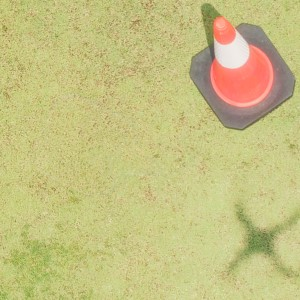traffic cone: (189, 16, 295, 130)
